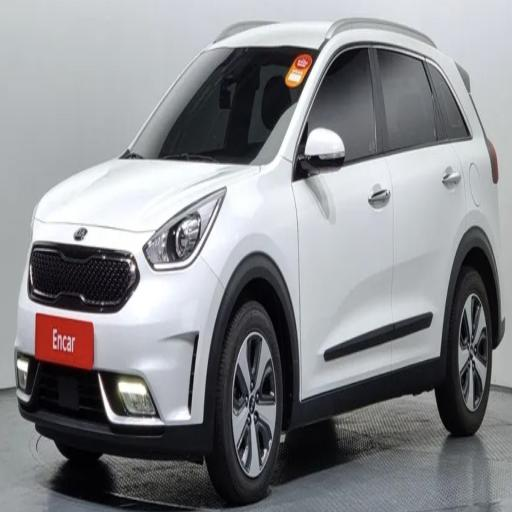normal: (12, 9, 510, 491)
